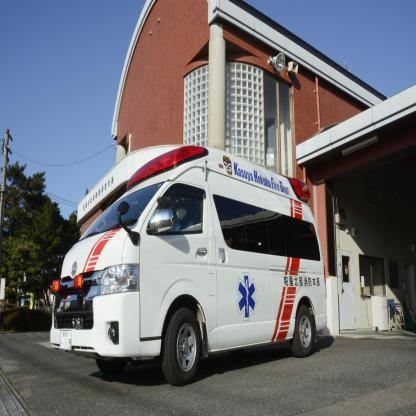Ambulance - v1 Ambulance last generate: (47, 150, 328, 370)
